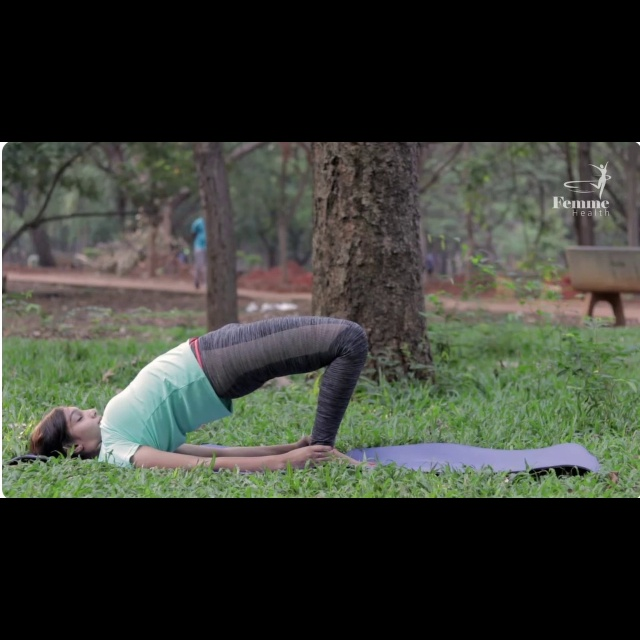Bridge_Pose: (14, 310, 383, 482)
